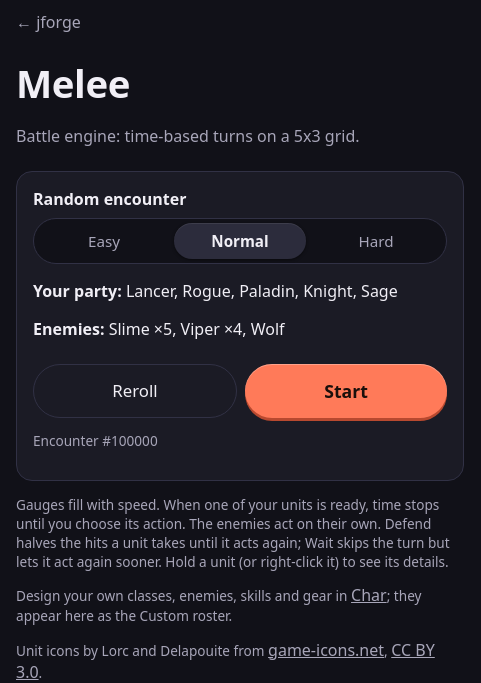
Scenario: melee App › given encounter #100000, when Reroll is pressed, then a new one is drawn
What coordinates should you click on to do the following:
click the button "Reroll"
I would click on:
 (135, 391)
Its box is [33,364,237,418].
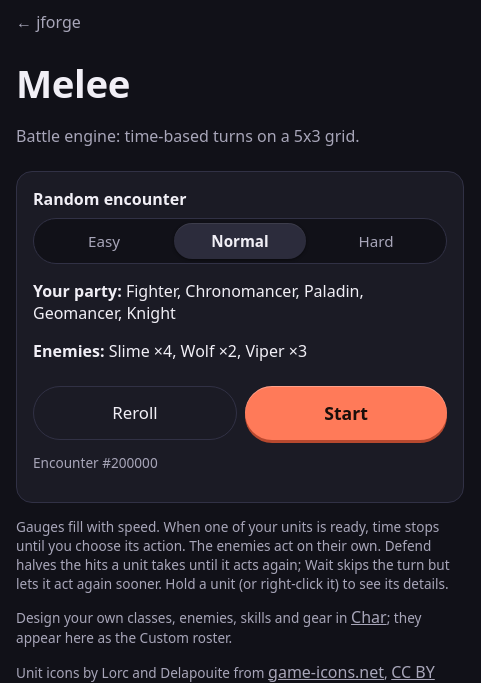
Result: the text "Encounter #200000" is shown at [33,453,158,472]
